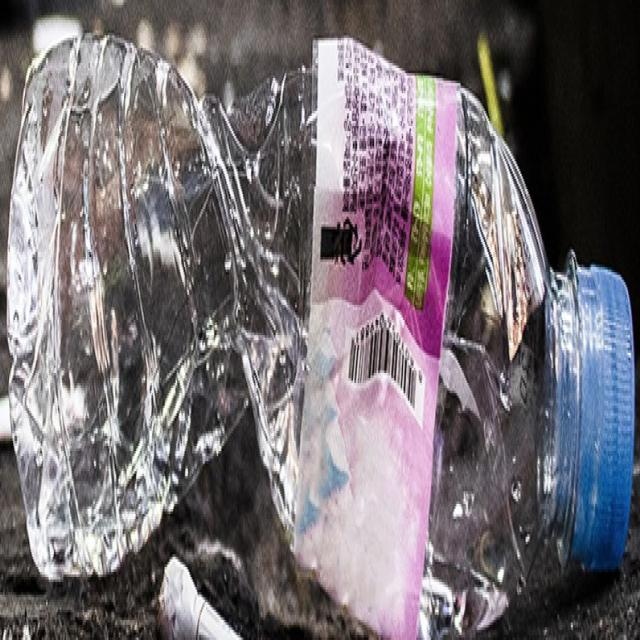plastic bottle: (19, 0, 640, 597)
